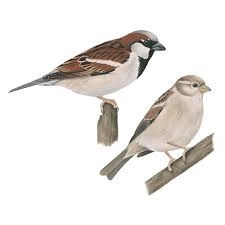hsparrow: (9, 26, 168, 107), (98, 75, 213, 183)
